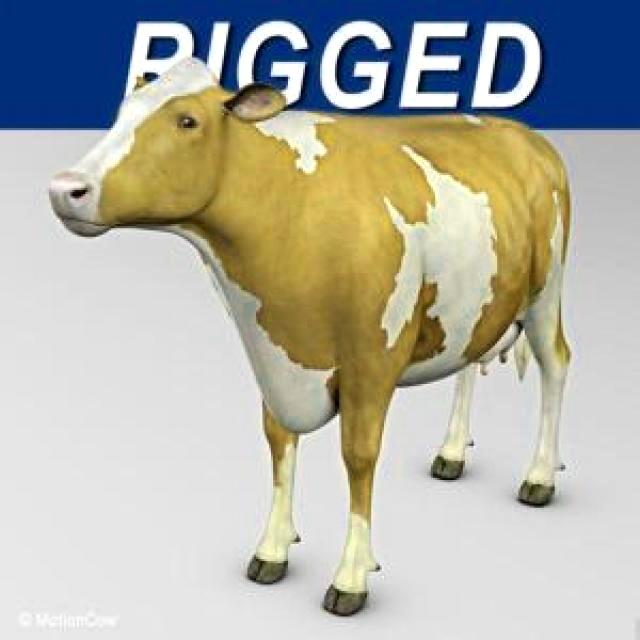COW: (50, 59, 571, 616)
